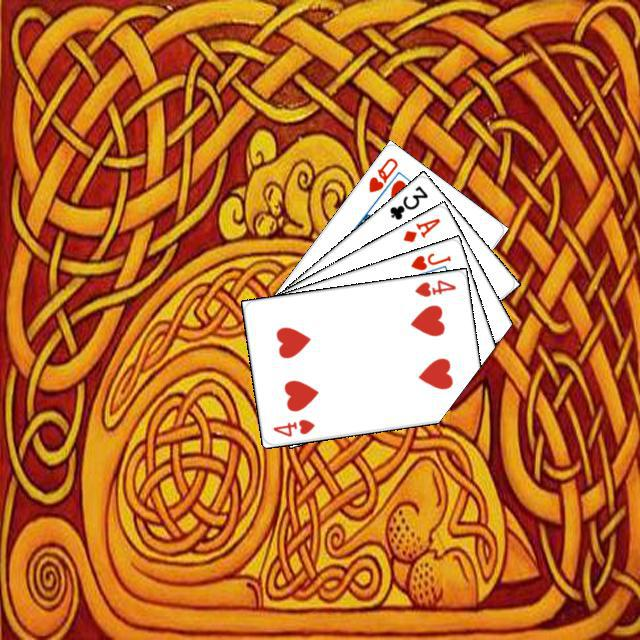3c: (385, 180, 430, 222)
4h: (410, 275, 458, 299), (268, 414, 316, 438)
Ad: (398, 213, 442, 244)
Jh: (406, 248, 453, 272)
Qh: (363, 153, 400, 194)
